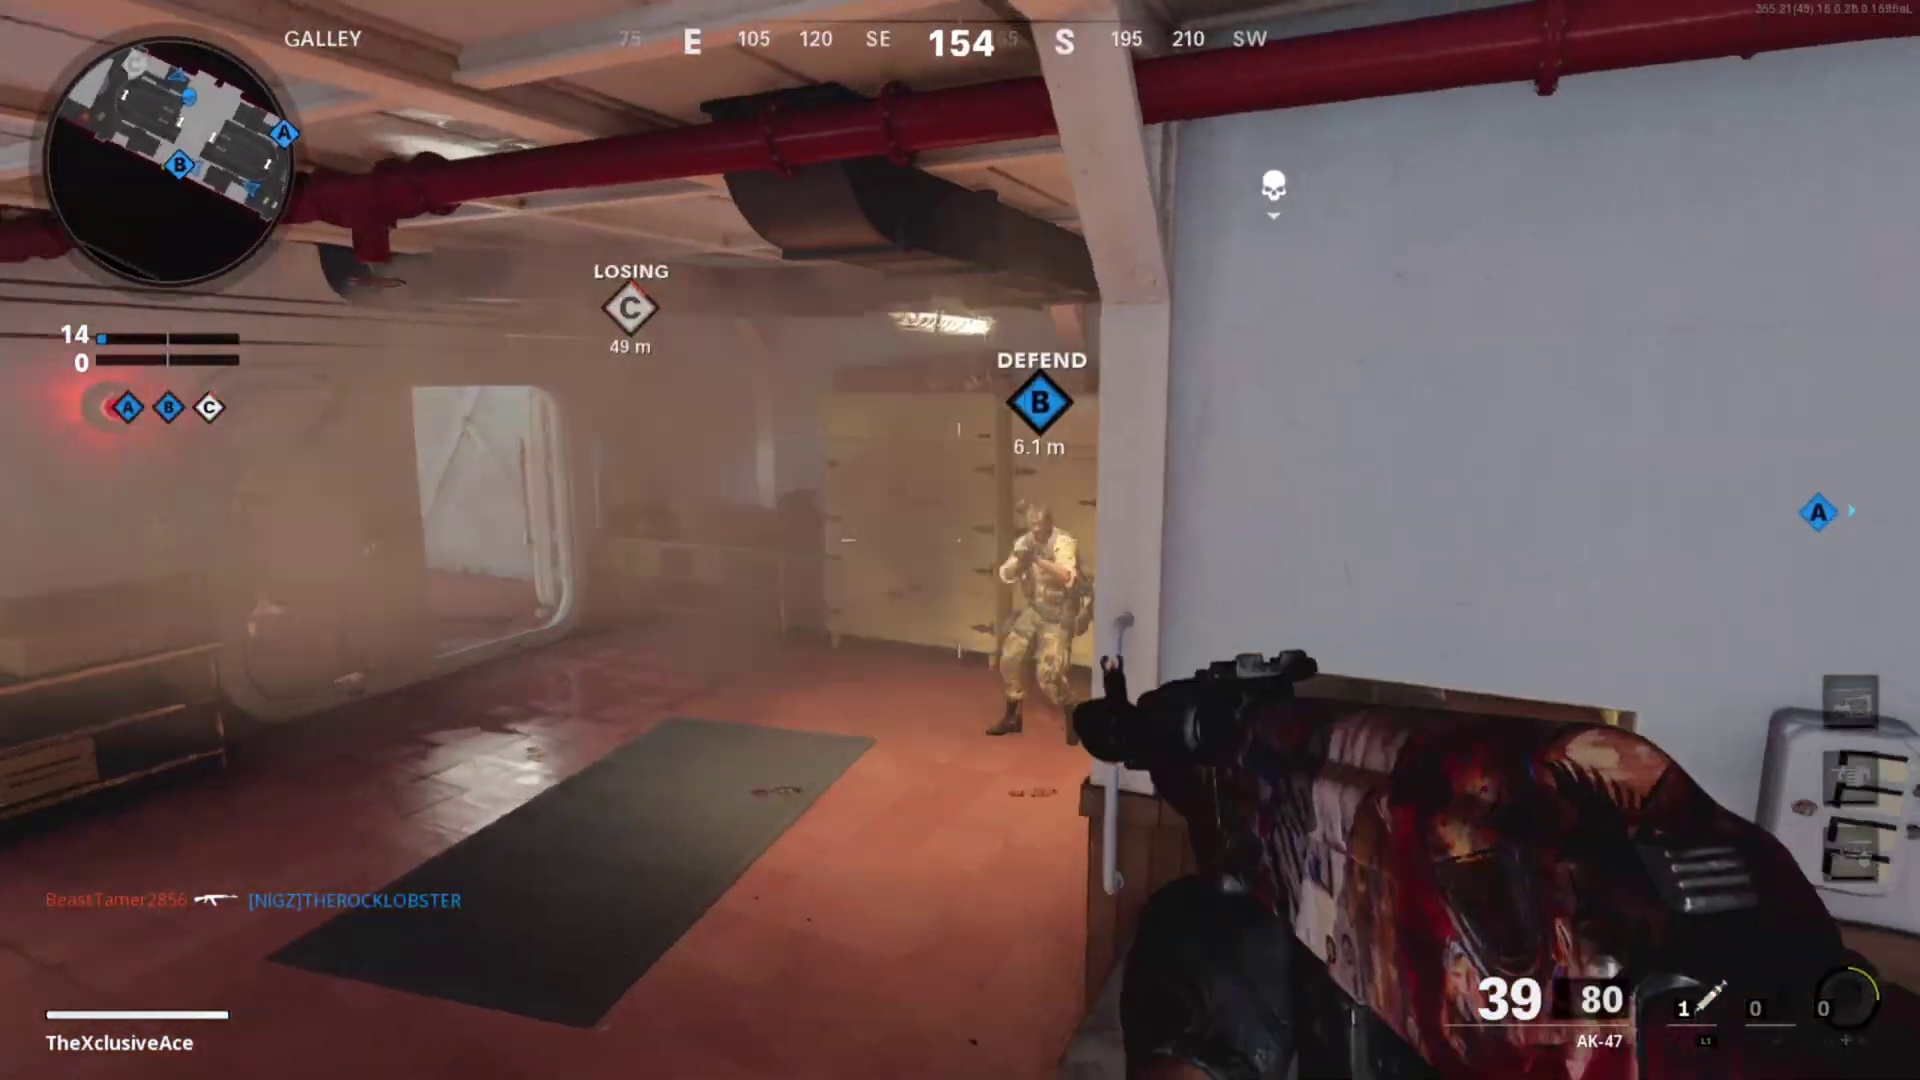head: (1022, 500, 1060, 553)
person: (975, 500, 1079, 734)
